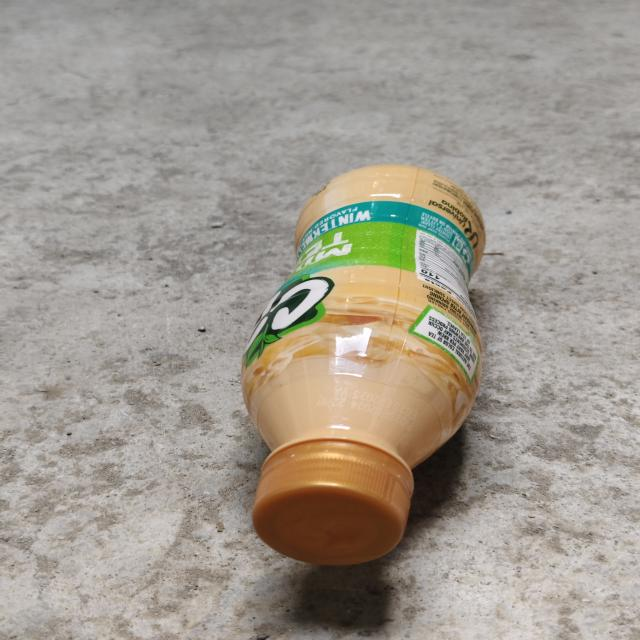Bottle: (242, 165, 485, 565)
